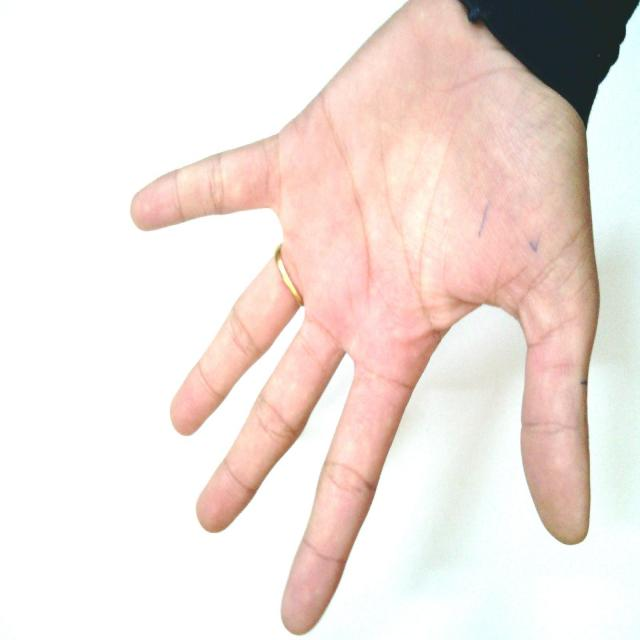others: (97, 1, 628, 634)
